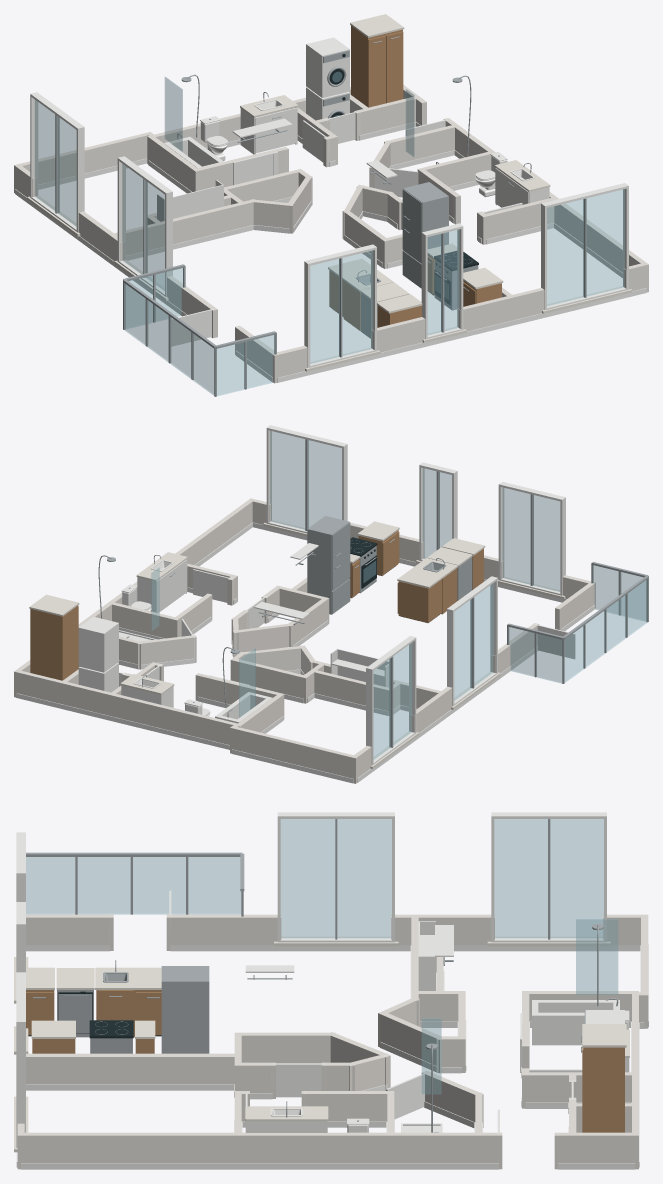
The model's file is flowhouse-wb1-cutaway.glb.
3 views of the same model, one above another, from view 1: azimuth 30°, elevation 25°; view 2: azimuth 150°, elevation 25°; view 3: azimuth 270°, elevation 25° (orthographic). The views are drawn at different scales.
Visible parts, largest first — view 1: Wall (×22), Window glazing (×5), Glass balcony guard (×3), Window jamb (×9), White baseboard (×3), Painted door leaf (×4), Panelled cabinet door (×2), Sink cabinet front (×2), Cabinet carcass (×2), Dryer housing, Glass shower screen (×2), Refrigerator body (+10 smaller); view 2: Wall (×21), Window glazing (×5), Glass balcony guard (×3), Cabinet carcass (×2), Window jamb (×6), White baseboard (×4), Refrigerator body, Dryer housing, Stone countertop (×3), Glass shower screen (×2), Sink cabinet front, Refrigerator door (+8 smaller); view 3: Wall (×26), Window glazing (×2), Glass balcony guard, White baseboard (×5), Glass shower screen (×2), Refrigerator body, Cabinet carcass (×2), Window rail (×5), Stone countertop (×4), Painted door leaf (×2), Basin side (×2), Fitted countertop (×2) (+13 smaller).
Boxes of the visible parts, bbox=[...] form: Wall (×22): bbox=[14, 86, 648, 383]; Window glazing (×5): bbox=[35, 100, 624, 363]; Glass balcony guard (×3): bbox=[124, 268, 274, 395]; Window jamb (×9): bbox=[30, 95, 546, 367]; White baseboard (×3): bbox=[15, 189, 646, 382]; Painted door leaf (×4): bbox=[233, 112, 418, 197]; Panelled cabinet door (×2): bbox=[368, 31, 403, 107]; Sink cabinet front (×2): bbox=[255, 108, 528, 207]; Cabinet carcass (×2): bbox=[351, 25, 421, 327]; Dryer housing: bbox=[306, 37, 349, 97]; Glass shower screen (×2): bbox=[165, 77, 414, 156]; Refrigerator body: bbox=[403, 182, 448, 263]; Wall (×21): bbox=[14, 498, 595, 783]; Window glazing (×5): bbox=[270, 431, 559, 759]; Glass balcony guard (×3): bbox=[509, 565, 647, 683]; Cabinet carcass (×2): bbox=[30, 579, 441, 680]; Window jamb (×6): bbox=[366, 485, 565, 764]; White baseboard (×4): bbox=[16, 522, 566, 783]; Refrigerator body: bbox=[307, 516, 349, 614]; Dryer housing: bbox=[78, 616, 118, 672]; Stone countertop (×3): bbox=[29, 521, 442, 616]; Glass shower screen (×2): bbox=[151, 568, 255, 717]; Sink cabinet front: bbox=[156, 559, 187, 612]; Refrigerator door: bbox=[332, 522, 350, 590]; Wall (×26): bbox=[17, 914, 648, 1169]; Window glazing (×2): bbox=[281, 819, 603, 937]; Glass balcony guard: bbox=[26, 857, 240, 914]; White baseboard (×5): bbox=[21, 945, 640, 1169]; Glass shower screen (×2): bbox=[422, 919, 617, 1093]; Refrigerator body: bbox=[161, 966, 209, 1053]; Cabinet carcass (×2): bbox=[32, 1039, 624, 1132]; Window rail (×5): bbox=[16, 812, 606, 1024]; Stone countertop (×4): bbox=[26, 967, 626, 1047]; Painted door leaf (×2): bbox=[274, 1063, 425, 1119]; Basin side (×2): bbox=[532, 1000, 619, 1045]; Fitted countertop (×2): bbox=[95, 967, 328, 1121].
Bounding box in the file's own units: 10.18 × 2.51 × 10.66.
